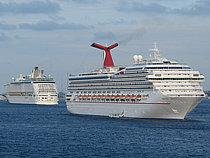Ship: (62, 38, 210, 124), (3, 64, 62, 108)
